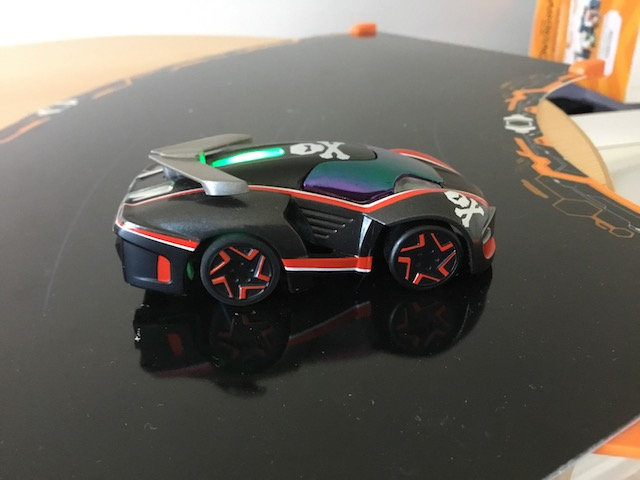car-red: (108, 126, 501, 312)
